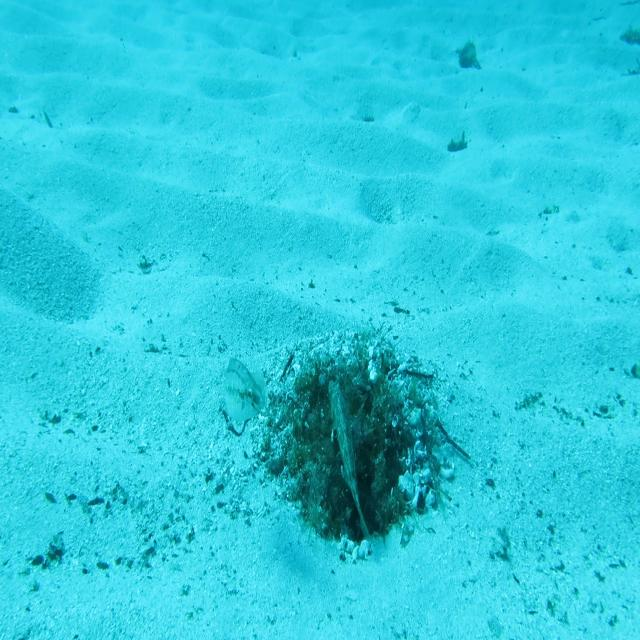ROLL: (327, 376, 375, 551)
core_nest: (320, 378, 374, 419)
female: (222, 354, 268, 428)
nest: (245, 315, 467, 571)
vegetation: (454, 43, 482, 73), (446, 132, 470, 154), (616, 26, 640, 48)
